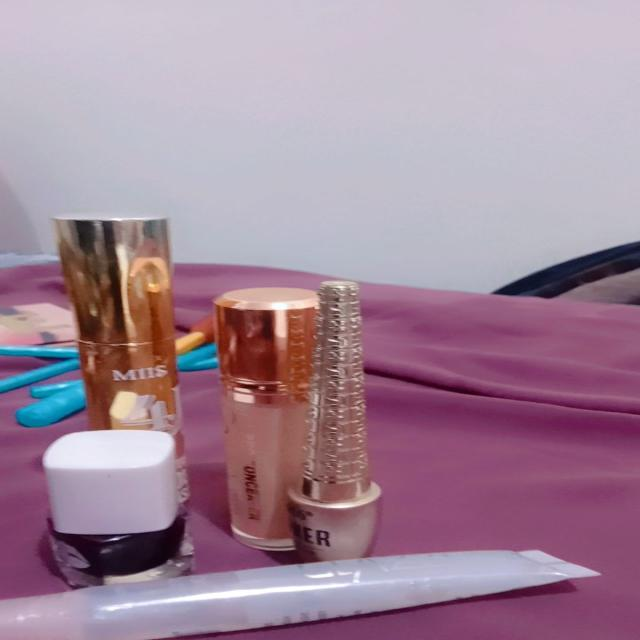Tint: (30, 419, 191, 587)
concealer: (40, 197, 197, 427)
lip gloss: (192, 272, 327, 548)
primer: (0, 527, 617, 640)
